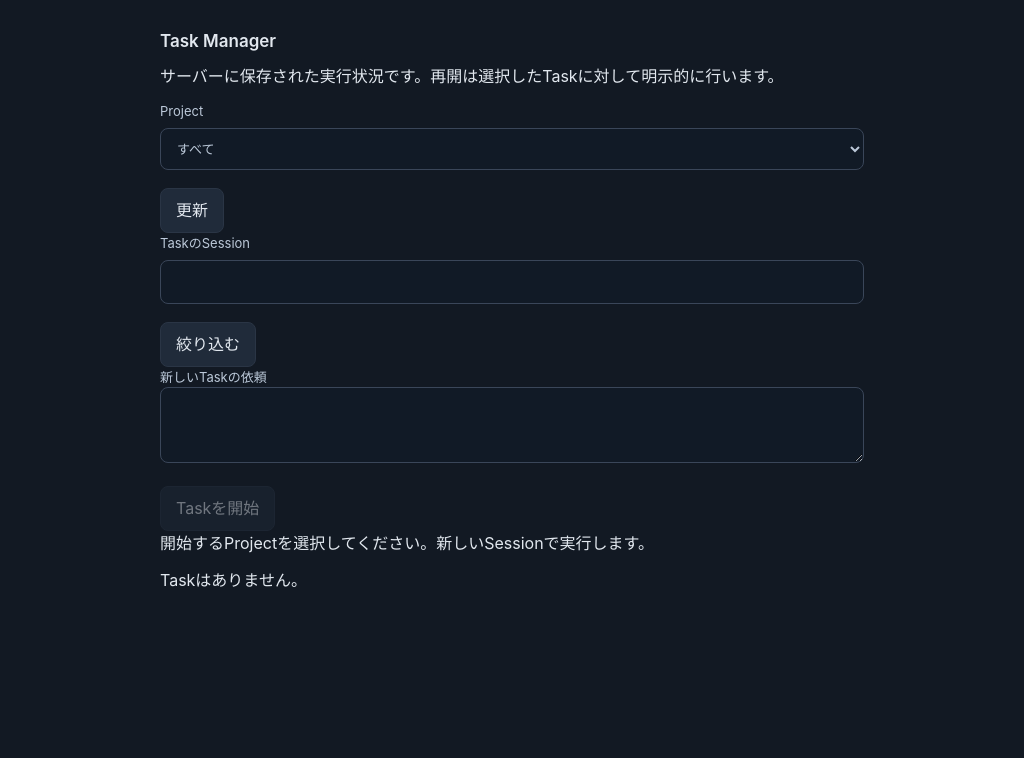
Scenario: submits once through Task Manager and exposes the accepted server receipt
Expected: the text "Taskはありません。" is shown, [160, 570, 307, 590]
Select "rei" in the dropdown named "TaskのProject" at {"x": 512, "y": 149}, box [160, 128, 864, 170]
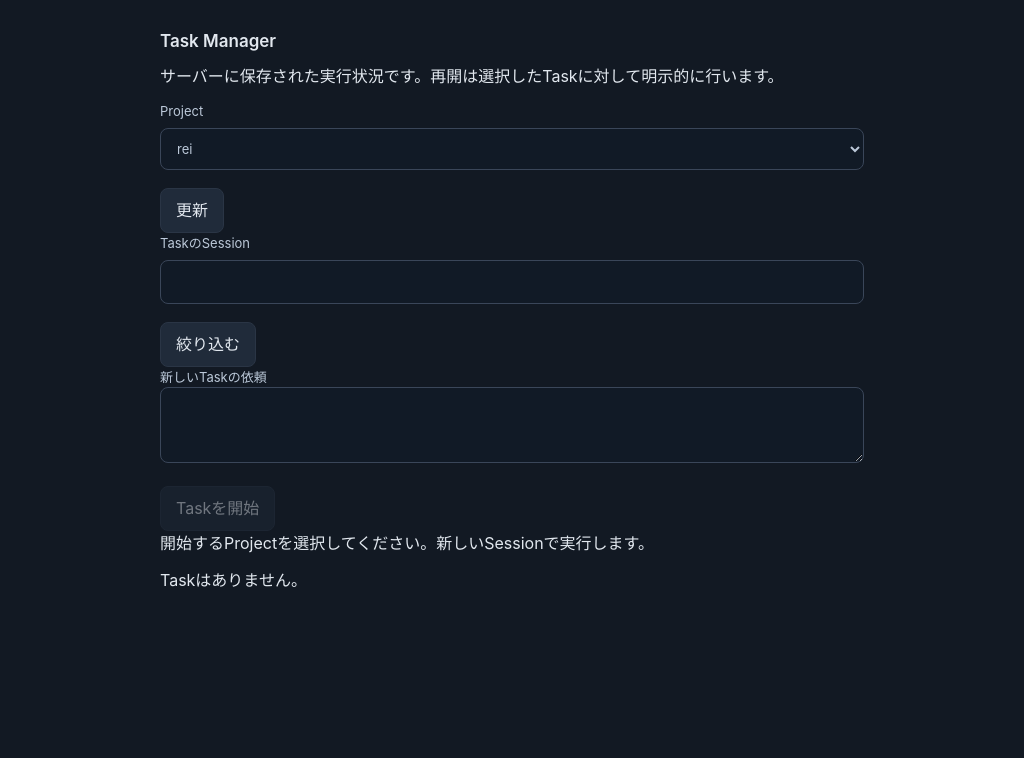
Type "確認する" into the text box labelled "新しいTaskの依頼" at {"x": 512, "y": 425}, box [160, 387, 864, 463]
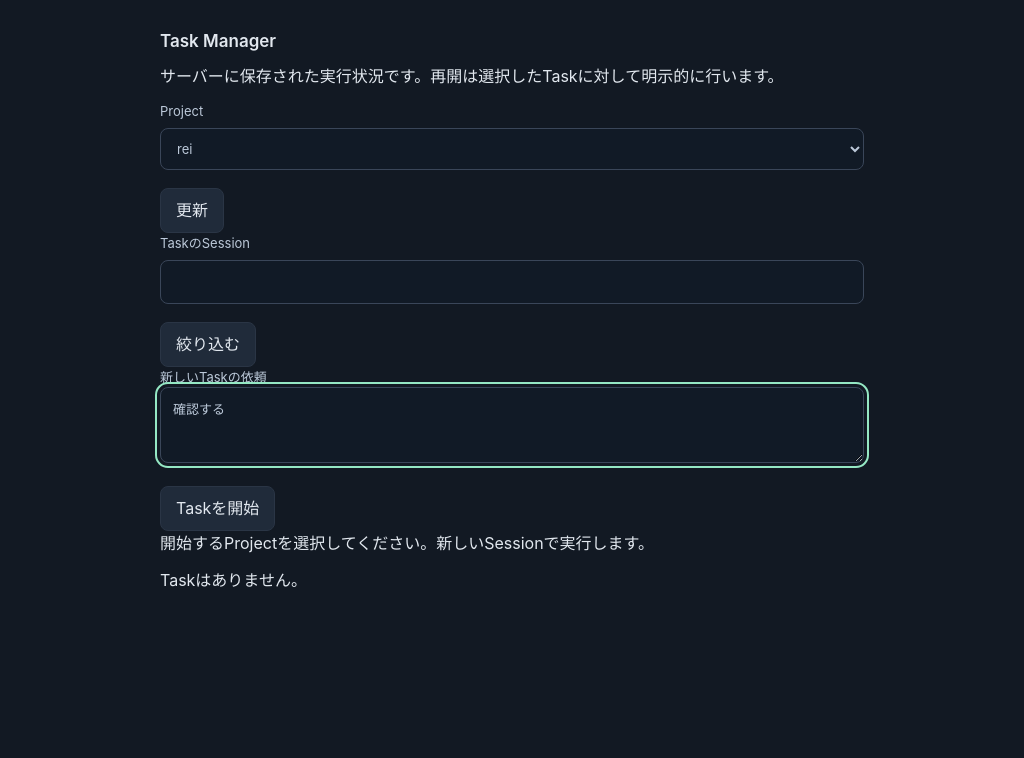
Click the button "Taskを開始" at {"x": 218, "y": 509}, box [160, 486, 275, 531]
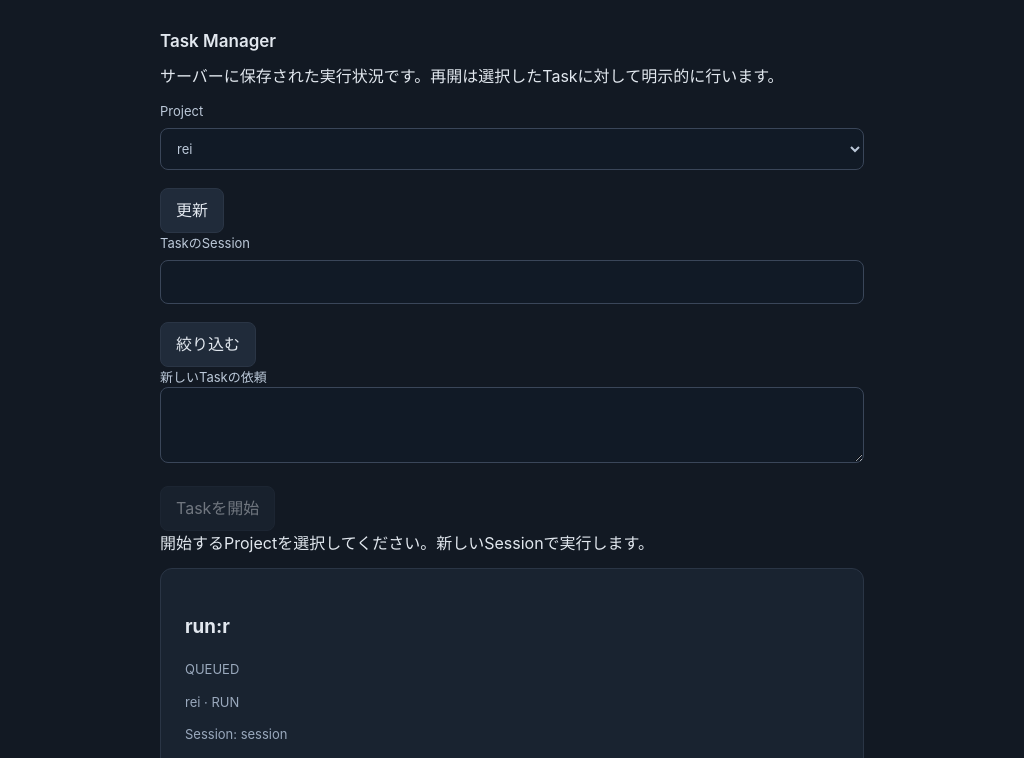
Now the text "QUEUED" is shown, box [185, 662, 239, 678]
